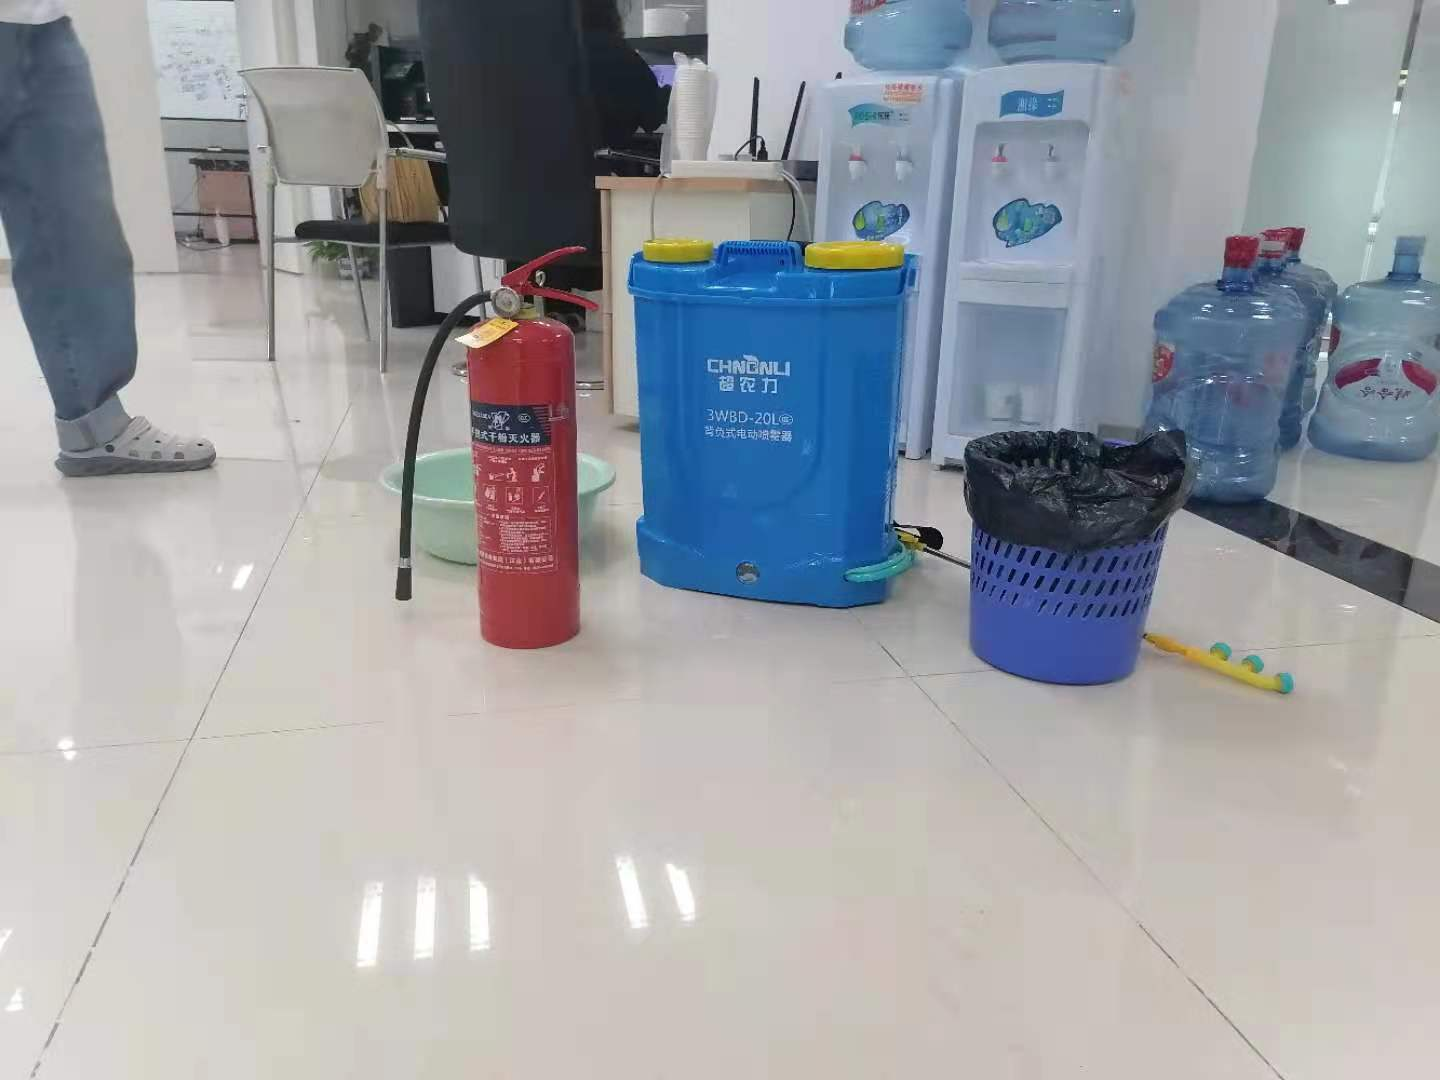berrl: (622, 238, 917, 615)
